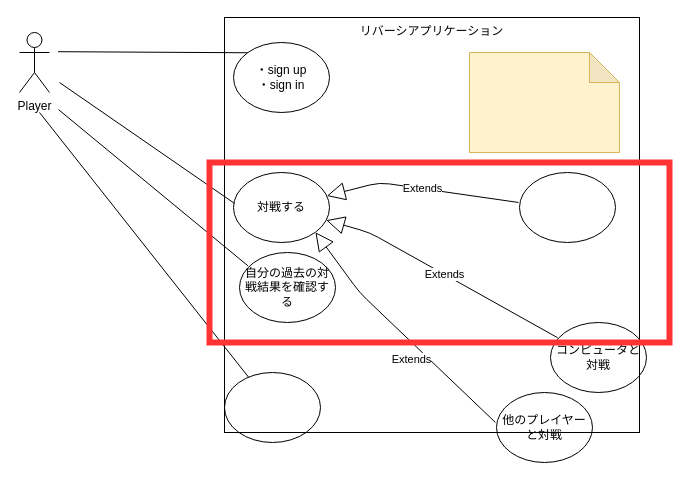
Some shapes in this 689 by 480 pixel diagram are drawn without their labels. Each missing label, with the centre of its shape:
"プレイヤーのランキングをを確認する" belongs at (272,407).
"一人で交互にプレイ" belongs at (567,207).
"対戦をする 盤面を見る 石をうつ 勝敗を確認する" belongs at (544,102).
